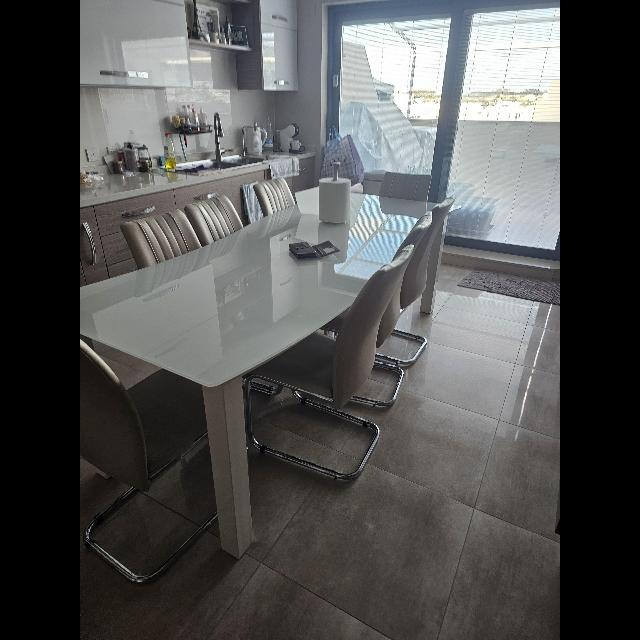Wallet: (288, 240, 340, 260)
